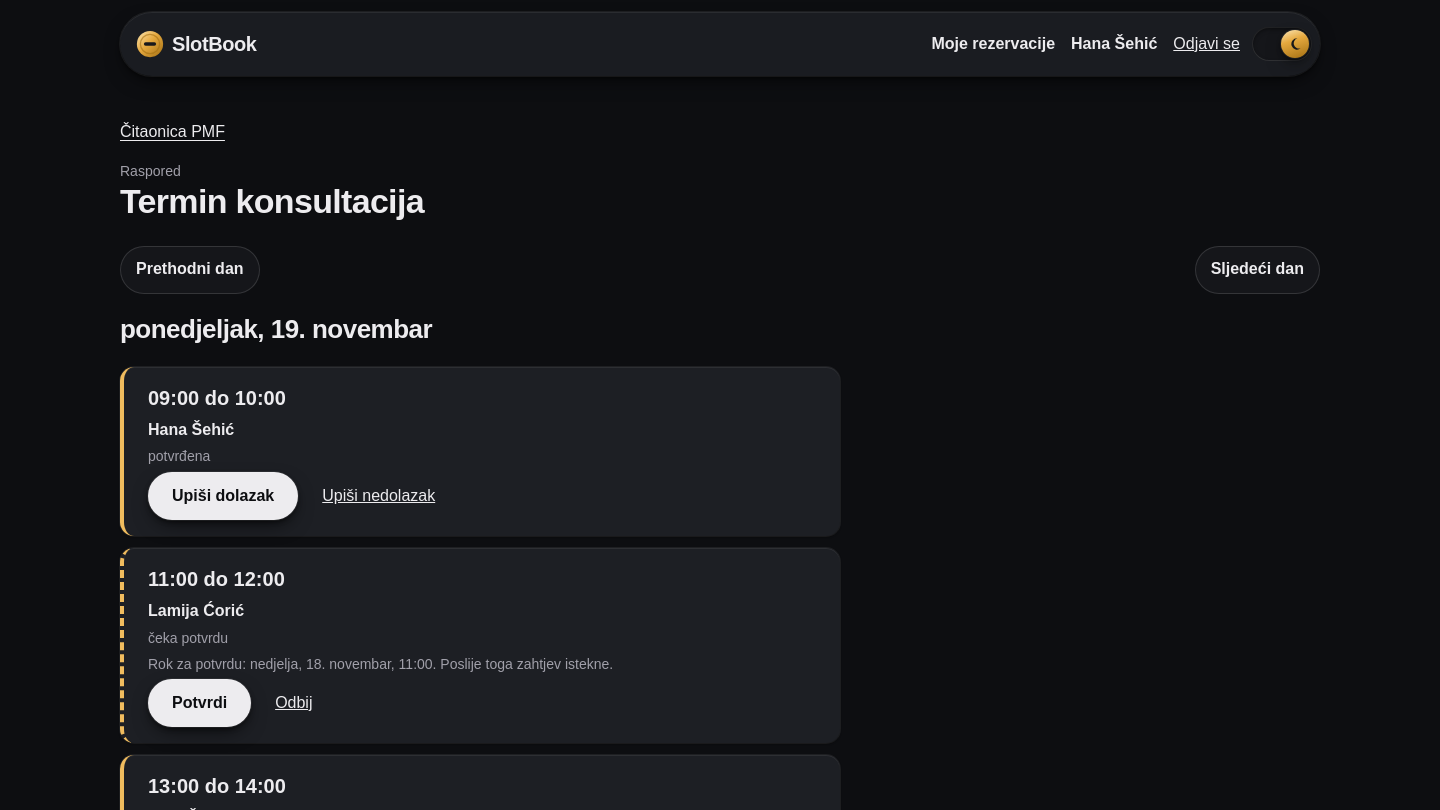
Test: promjene › dolazak i nedolazak se upisuju tek kad termin počne
Click the button "Upiši nedolazak": click(379, 496) [322,472,435,520]
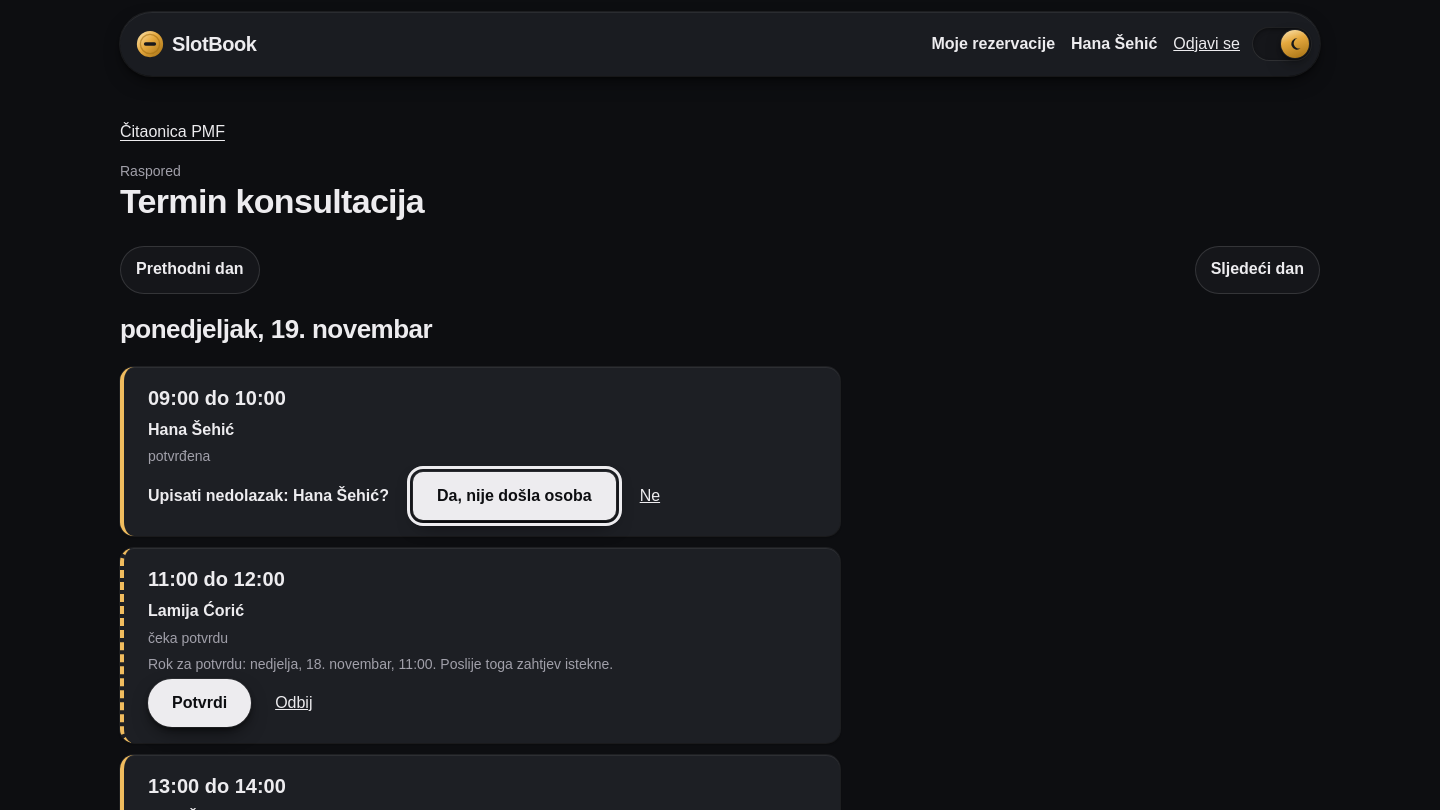
Click the button "Da, nije došla osoba": click(514, 496) [413,472,616,520]
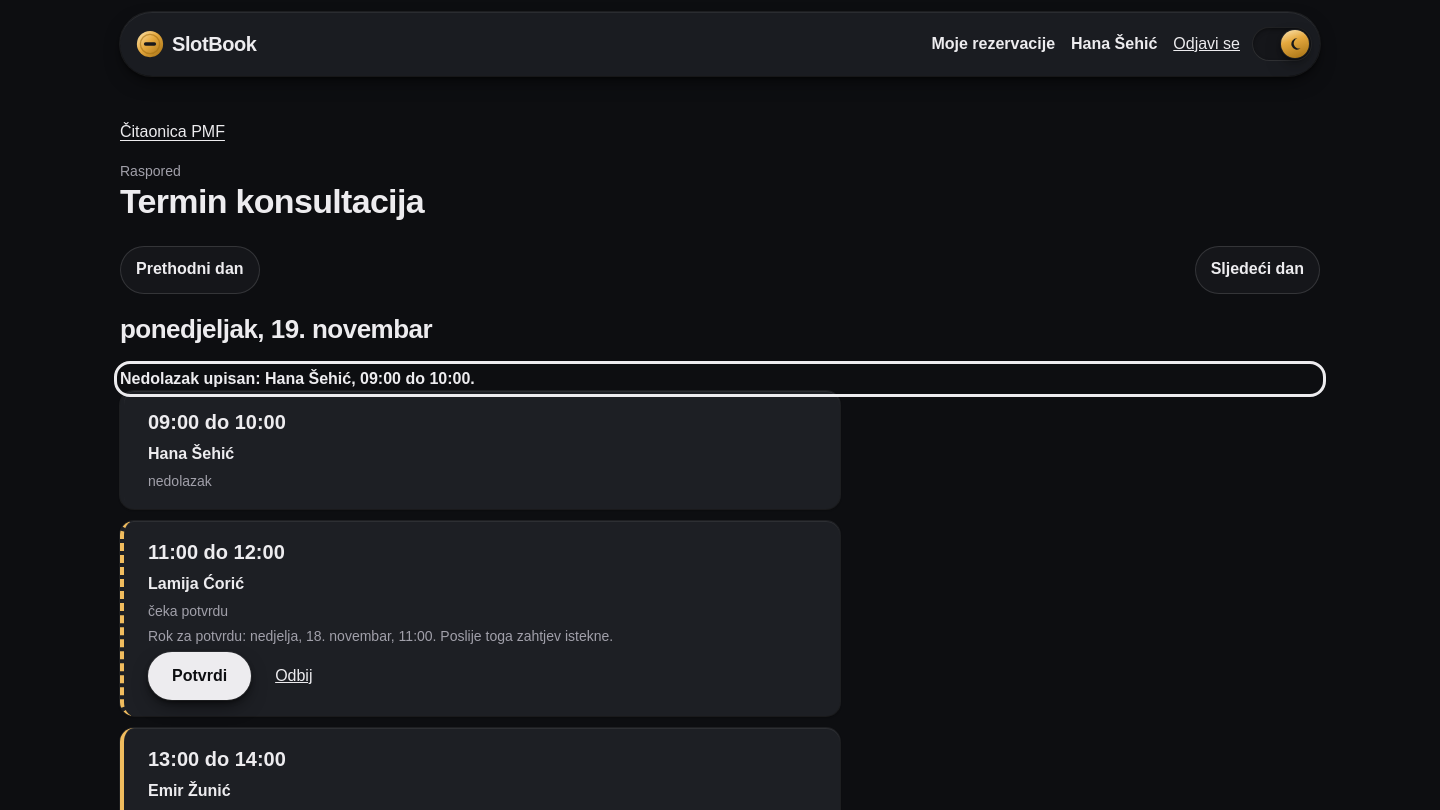
Expected: the text "Nedolazak upisan: Hana Šehić, 09:00 do 10:00." is shown, [120,370,475,387]
